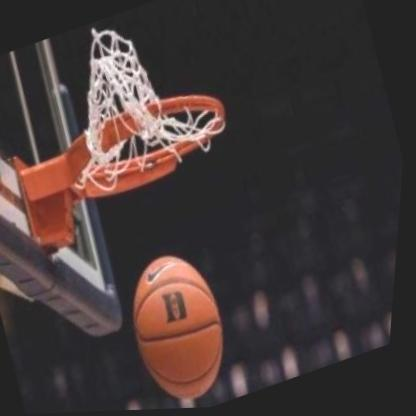basketball: (110, 235, 255, 412)
